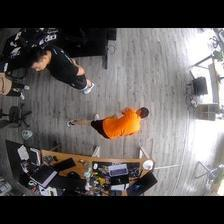fall: (67, 105, 152, 138)
normal: (28, 42, 94, 94)
